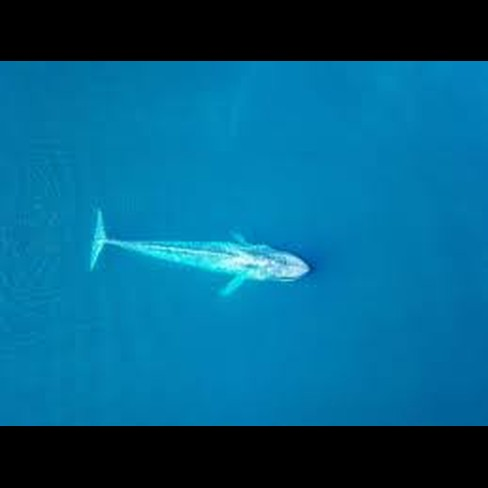bluewhale: (84, 206, 314, 309)
